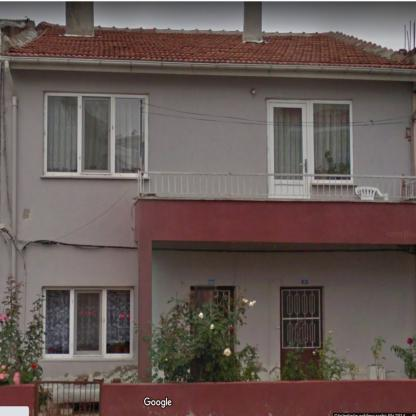door: (266, 98, 310, 200), (280, 286, 322, 366)
window: (43, 92, 148, 177), (42, 286, 133, 360), (310, 102, 354, 183)
